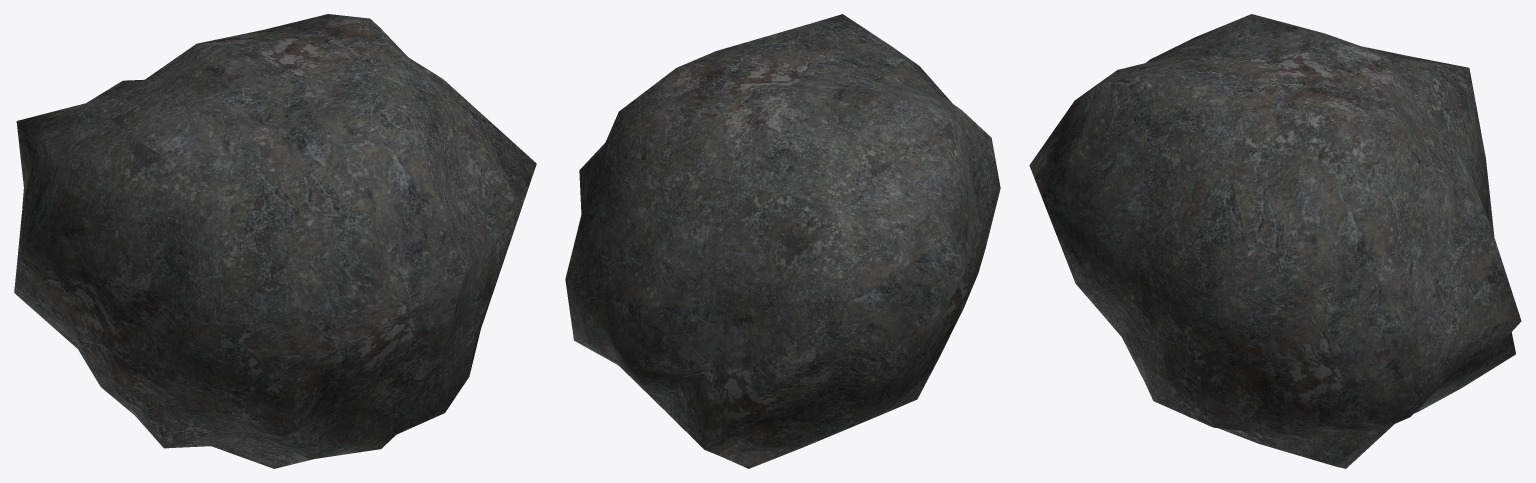
File: Asteroid01.FBX
3 renders of one model, left to right at view 1: azimuth 30°, elevation 25°; view 2: azimuth 150°, elevation 25°; view 3: azimuth 270°, elevation 25°, orthographic. The views are drawn at different scales.
Parts seen in each view (by area): view 1: Asteroid01; view 2: Asteroid01; view 3: Asteroid01.
Boxes of the visible parts, x1,y1,x2,y2 form: Asteroid01: (14, 14, 536, 468); Asteroid01: (565, 14, 1000, 468); Asteroid01: (1029, 14, 1521, 468).
Bounding box in the file's own units: 51.57 × 45.33 × 51.73.
